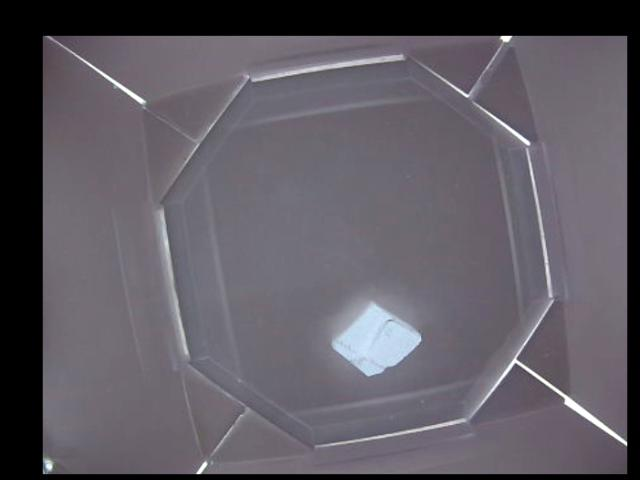China: (329, 305, 423, 374)
